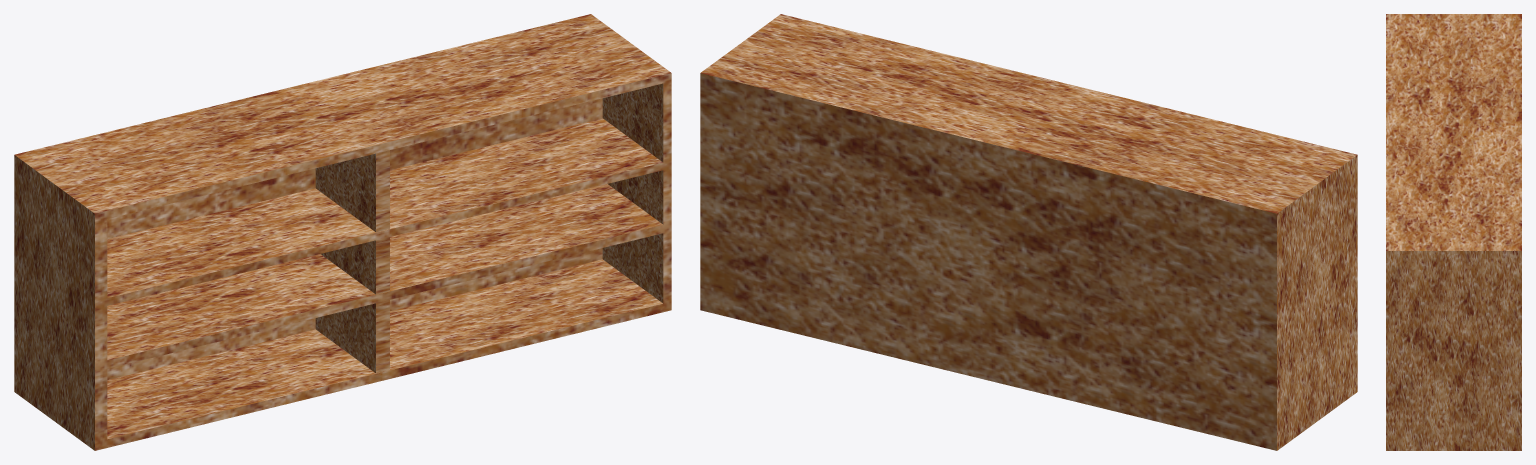
File: kitchen_cabinet_top.glb
The picture shows the model from 3 angles, left to right: view 1: azimuth 30°, elevation 25°; view 2: azimuth 150°, elevation 25°; view 3: azimuth 270°, elevation 25°; orthographic projection. The views are drawn at different scales.
Visible parts, largest first — view 1: Kitchen_stand; view 2: Kitchen_stand; view 3: Kitchen_stand.
Part boxes in pixels (x1,y1,x2,y2): Kitchen_stand: (14,14,671,450); Kitchen_stand: (700,14,1357,450); Kitchen_stand: (1386,14,1521,450).
Size of the model in its own units: 2.63 by 1.04 by 0.6379.
1 material, 1 textured.
